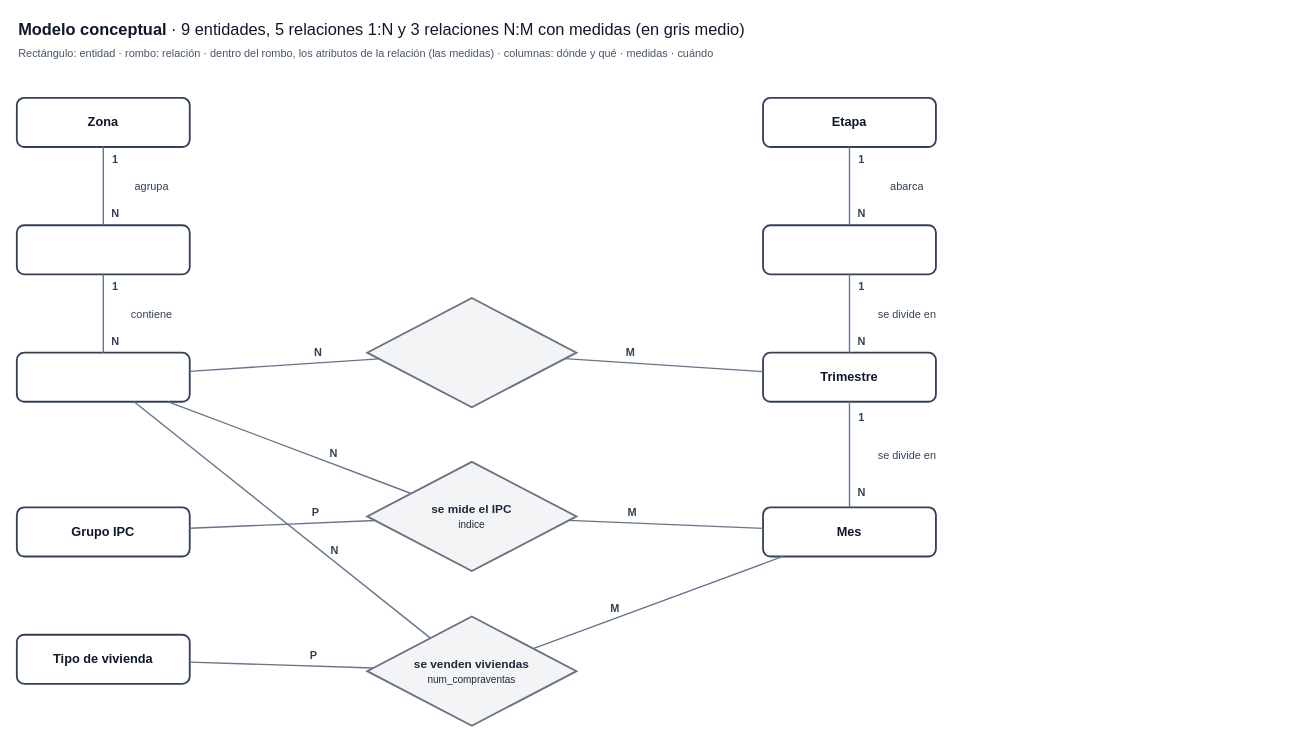
Some shapes in this 1306 by 742 pixel diagram are drawn without their labels. The box of each missing label's shape, as (x1, y1, x2, y2) in pixels:
Año: (762, 224, 936, 275)
Comunidad autónoma: (15, 224, 190, 275)
Provincia: (15, 351, 190, 402)
se compra suelo precio_m2 num_transacciones: (366, 297, 577, 408)
